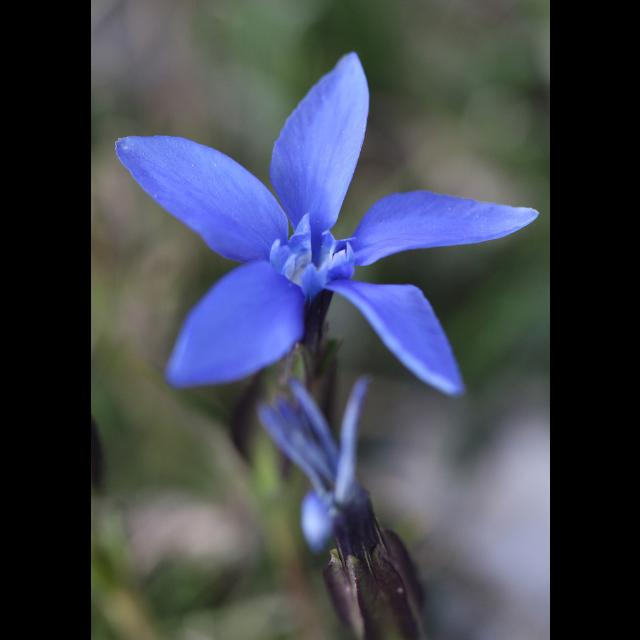Flower: (121, 48, 506, 468)
